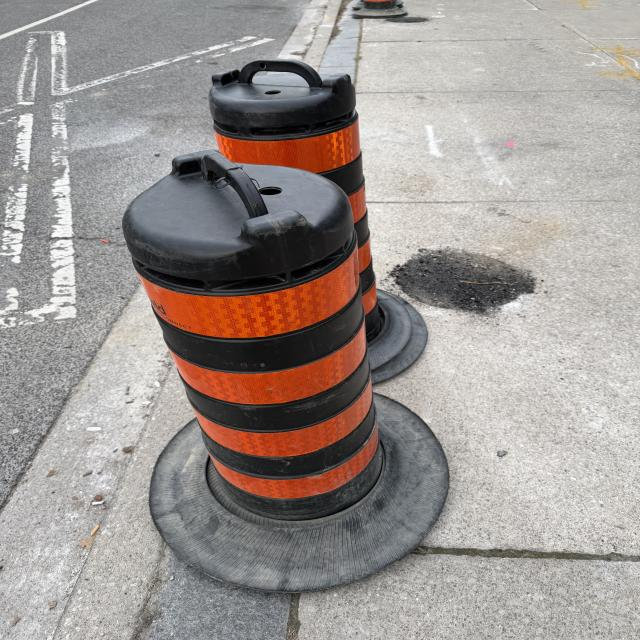Teraffic Barrel: (123, 151, 448, 591), (209, 60, 427, 382), (350, 0, 408, 18)
